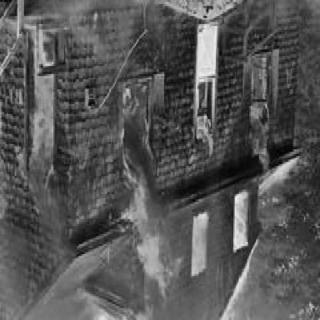Fire: (121, 69, 271, 319), (23, 28, 63, 192)
